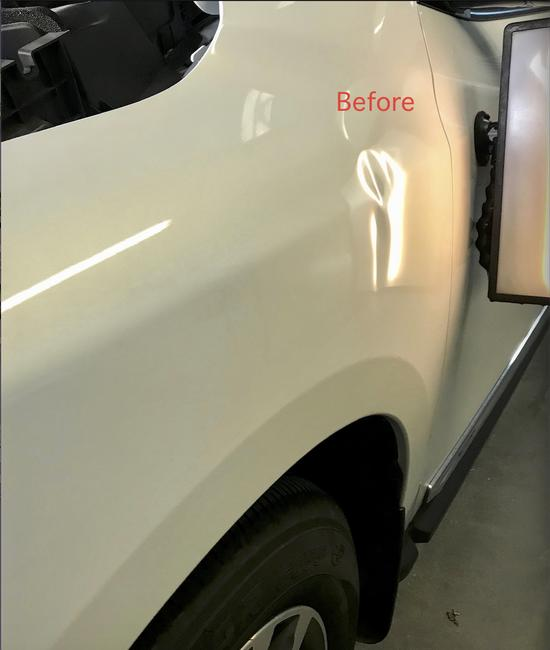dent: (338, 127, 423, 230)
